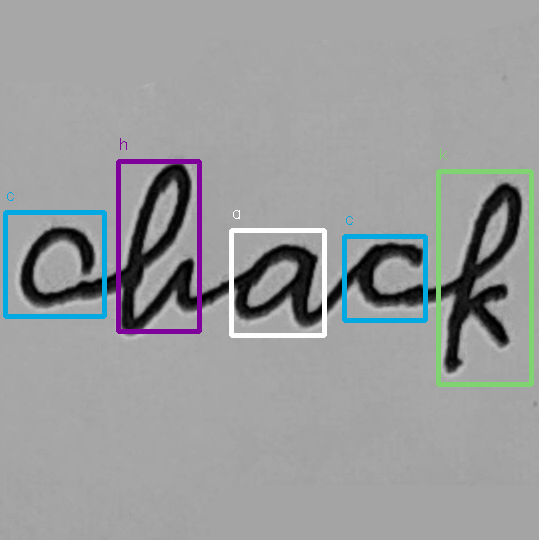a: (230, 238, 324, 331)
c: (13, 224, 100, 311), (350, 234, 429, 314)
h: (114, 158, 208, 336)
k: (438, 179, 527, 377)
